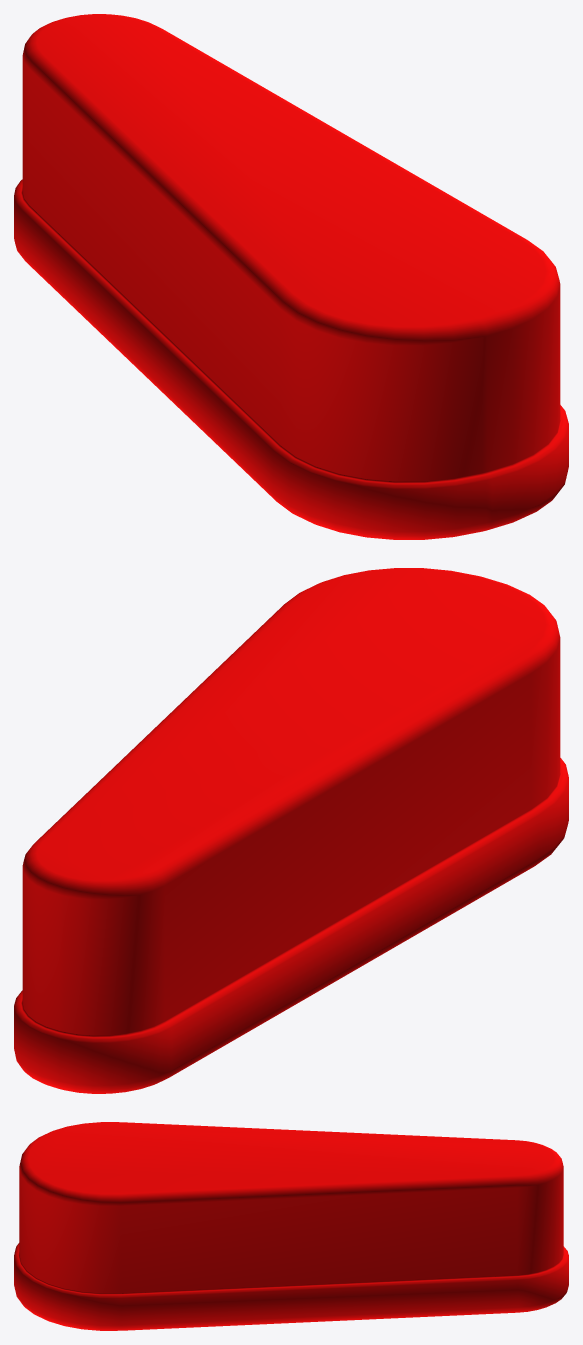
File: flipper.obj
3 views of the same model, one above another, from view 1: azimuth 30°, elevation 25°; view 2: azimuth 150°, elevation 25°; view 3: azimuth 270°, elevation 25° (orthographic). The views are drawn at different scales.
Parts seen in each view (by area): view 1: flipper; view 2: flipper; view 3: flipper.
Part boxes in pixels (x1,y1,x2,y2): flipper: [14, 14, 568, 539]; flipper: [14, 568, 568, 1093]; flipper: [14, 1122, 568, 1330].
Size of the model in its own units: 1.07 by 0.8012 by 3.01.
1 material, 1 textured.
